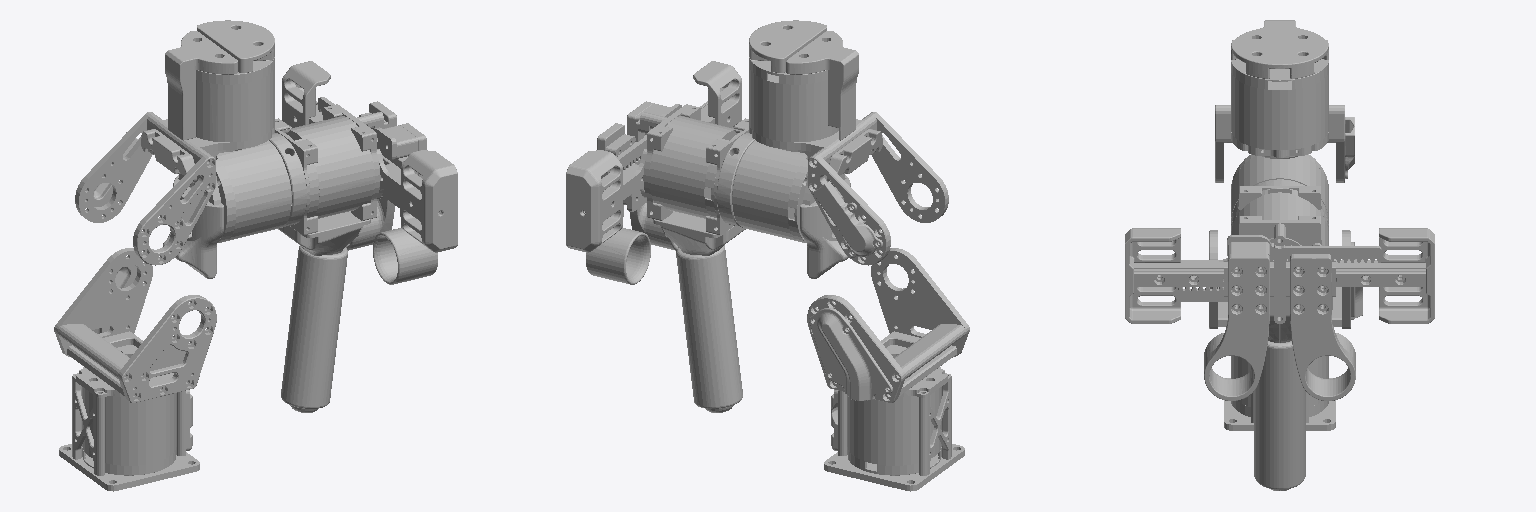
robot.urdf — wxai_leader:
<?xml version="1.0" encoding="utf-8"?>
<!-- This URDF was automatically created by SolidWorks to URDF Exporter! Originally created by [author] ([email redacted]) 
     Commit Version: 1.6.0-4-g7f85cfe  Build Version: 1.6.7995.38578
     For more information, please see http://wiki.ros.org/sw_urdf_exporter -->
<robot name="wxai_leader">
  <link name="base_link">
    <inertial>
      <origin xyz="0.00052268 -0.00005365 0.03202305" rpy="0 0 0"/>
      <mass value="0.45362020"/>
      <inertia ixx="0.00041296" ixy="-1.8e-7" ixz="-1.8e-6" iyy="0.00043677" iyz="3.8e-7" izz="0.00020350"/>
    </inertial>
    <visual>
      <origin xyz="0 0 0" rpy="0 0 0" />
      <geometry>
        <mesh filename="package://trossen_arm_description/meshes/wxai_leader/base_link.stl" />
      </geometry>
      <material name="">
        <color rgba="0.752941176470588 0.752941176470588 0.752941176470588 1" />
      </material>
    </visual>
    <collision>
      <origin xyz="0 0 0" rpy="0 0 0" />
      <geometry>
        <mesh filename="package://trossen_arm_description/meshes/wxai_leader/base_link.stl" />
      </geometry>
    </collision>
  </link>
  <link name="link_1">
    <inertial>
      <origin xyz="0.00021239 0.00381558 0.02072601" rpy="0 0 0"/>
      <mass value="0.15843428"/>
      <inertia ixx="0.00019568" ixy="5.8e-6" ixz="1.531e-5" iyy="0.00008633" iyz="5.45e-6" izz="0.00020268"/>
    </inertial>
    <visual>
      <origin xyz="0 0 0" rpy="0 0 0" />
      <geometry>
        <mesh filename="package://trossen_arm_description/meshes/wxai_leader/link_1.stl" />
      </geometry>
      <material name="">
        <color rgba="0.752941176470588 0.752941176470588 0.752941176470588 1" />
      </material>
    </visual>
    <collision>
      <origin xyz="0 0 0" rpy="0 0 0" />
      <geometry>
        <mesh filename="package://trossen_arm_description/meshes/wxai_leader/link_1.stl" />
      </geometry>
    </collision>
  </link>
  <joint name="joint_0" type="revolute">
    <origin xyz="0 0 0.05725" rpy="0 0 0" />
    <parent link="base_link" />
    <child link="link_1" />
    <axis xyz="0 0 1" />
    <limit lower="-3.14" upper="3.14" effort="0" velocity="0" />
  </joint>
  <link name="link_2">
    <inertial>
      <origin xyz="-0.13013162 -0.00289256 0.00043205" rpy="0 0 0"/>
      <mass value="1.18618542"/>
      <inertia ixx="0.00105929" ixy="4.62e-6" ixz="6.11e-5" iyy="0.01757805" iyz="1.87e-6" izz="0.01814288"/>
    </inertial>
    <visual>
      <origin xyz="0 0 0" rpy="0 0 0" />
      <geometry>
        <mesh filename="package://trossen_arm_description/meshes/wxai_leader/link_2.stl" />
      </geometry>
      <material name="">
        <color rgba="0.752941176470588 0.752941176470588 0.752941176470588 1" />
      </material>
    </visual>
    <collision>
      <origin xyz="0 0 0" rpy="0 0 0" />
      <geometry>
        <mesh filename="package://trossen_arm_description/meshes/wxai_leader/link_2.stl" />
      </geometry>
    </collision>
  </link>
  <joint name="joint_1" type="revolute">
    <origin xyz="0.02 0 0.04625" rpy="0 0 0" />
    <parent link="link_1" />
    <child link="link_2" />
    <axis xyz="0 -1 0" />
    <limit lower="-3.14" upper="3.14" effort="0" velocity="0" />
  </joint>
  <link name="link_3">
    <inertial>
      <origin xyz="0.20081085 -0.00148559 0.05715902" rpy="0 0 0"/>
      <mass value="1.08254926"/>
      <inertia ixx="0.00096248" ixy="-1.11e-4" ixz="5.91e-4" iyy="0.00690323" iyz="-1.21e-5" izz="0.00717548"/>
    </inertial>
    <visual>
      <origin xyz="0 0 0" rpy="0 0 0" />
      <geometry>
        <mesh filename="package://trossen_arm_description/meshes/wxai_leader/link_3.stl" />
      </geometry>
      <material name="">
        <color rgba="0.752941176470588 0.752941176470588 0.752941176470588 1" />
      </material>
    </visual>
    <collision>
      <origin xyz="0 0 0" rpy="0 0 0" />
      <geometry>
        <mesh filename="package://trossen_arm_description/meshes/wxai_leader/link_3.stl" />
      </geometry>
    </collision>
  </link>
  <joint name="joint_2" type="revolute">
    <origin xyz="-0.264 0 0" rpy="0 0 0" />
    <parent link="link_2" />
    <child link="link_3" />
    <axis xyz="0 -1 0" />
    <limit lower="-3.14" upper="3.14" effort="0" velocity="0" />
  </joint>
  <link name="link_4">
    <inertial>
      <origin xyz="0.05715387 0.00034278 0.05714934" rpy="0 0 0"/>
      <mass value="0.43735051"/>
      <inertia ixx="0.00051288" ixy="-7.84e-6" ixz="1.73e-4" iyy="0.00062611" iyz="-7.96e-6" izz="0.00040480"/>
    </inertial>
    <visual>
      <origin xyz="0 0 0" rpy="0 0 0" />
      <geometry>
        <mesh filename="package://trossen_arm_description/meshes/wxai_leader/link_4.stl" />
      </geometry>
      <material name="">
        <color rgba="0.752941176470588 0.752941176470588 0.752941176470588 1" />
      </material>
    </visual>
    <collision>
      <origin xyz="0 0 0" rpy="0 0 0" />
      <geometry>
        <mesh filename="package://trossen_arm_description/meshes/wxai_leader/link_4.stl" />
      </geometry>
    </collision>
  </link>
  <joint name="joint_3" type="revolute">
    <origin xyz="0.245 0 0.06" rpy="0 0 0" />
    <parent link="link_3" />
    <child link="link_4" />
    <axis xyz="0 -1 0" />
    <limit lower="-3.14" upper="3.14" effort="0" velocity="0" />
  </joint>
  <link name="link_5">
    <inertial>
      <origin xyz="0.00386239 -0.00001131 -0.04318054" rpy="0 0 0"/>
      <mass value="0.36982410"/>
      <inertia ixx="0.00018840" ixy="4.5e-7" ixz="2.45e-6" iyy="0.00032339" iyz="-3e-8" izz="0.00026992"/>
    </inertial>
    <visual>
      <origin xyz="0 0 0" rpy="0 0 0" />
      <geometry>
        <mesh filename="package://trossen_arm_description/meshes/wxai_leader/link_5.stl" />
      </geometry>
      <material name="">
        <color rgba="0.752941176470588 0.752941176470588 0.752941176470588 1" />
      </material>
    </visual>
    <collision>
      <origin xyz="0 0 0" rpy="0 0 0" />
      <geometry>
        <mesh filename="package://trossen_arm_description/meshes/wxai_leader/link_5.stl" />
      </geometry>
    </collision>
  </link>
  <joint name="joint_4" type="revolute">
    <origin xyz="0.06775 0 0.0455" rpy="0 0 0" />
    <parent link="link_4" />
    <child link="link_5" />
    <axis xyz="0 0 -1" />
    <limit lower="-3.14" upper="3.14" effort="0" velocity="0" />
  </joint>
  <link name="link_6">
    <inertial>
      <origin xyz="0.04260435 -0.00000564 -0.00961530" rpy="0 0 0"/>
      <mass value="0.58782068"/>
      <inertia ixx="0.00106679" ixy="4.9e-7" ixz="6.518e-5" iyy="0.00096664" iyz="-1.5e-7" izz="0.00084059"/>
    </inertial>
    <visual>
      <origin xyz="0 0 0" rpy="0 0 0" />
      <geometry>
        <mesh filename="package://trossen_arm_description/meshes/wxai_leader/link_6.stl" />
      </geometry>
      <material name="">
        <color rgba="0.752941176470588 0.752941176470588 0.752941176470588 1" />
      </material>
    </visual>
    <collision>
      <origin xyz="0 0 0" rpy="0 0 0" />
      <geometry>
        <mesh filename="package://trossen_arm_description/meshes/wxai_leader/link_6.stl" />
      </geometry>
    </collision>
  </link>
  <joint name="joint_5" type="revolute">
    <origin xyz="0.02895 0 -0.0455" rpy="0 0 0" />
    <parent link="link_5" />
    <child link="link_6" />
    <axis xyz="1 0 0" />
    <limit lower="-3.14" upper="3.14" effort="0" velocity="0" />
  </joint>
  <link name="gripper_left">
    <inertial>
      <origin xyz="0.00203592 -0.00158698 -0.01124986" rpy="0 0 0"/>
      <mass value="0.07230515"/>
      <inertia ixx="0.00004429" ixy="2.1e-6" ixz="8.6e-7" iyy="0.00003181" iyz="-3.39e-6" izz="0.00001895"/>
    </inertial>
    <visual>
      <origin xyz="0 0 0" rpy="0 0 0" />
      <geometry>
        <mesh filename="package://trossen_arm_description/meshes/wxai_leader/gripper_left.stl" />
      </geometry>
      <material name="">
        <color rgba="0.752941176470588 0.752941176470588 0.752941176470588 1" />
      </material>
    </visual>
    <collision>
      <origin xyz="0 0 0" rpy="0 0 0" />
      <geometry>
        <mesh filename="package://trossen_arm_description/meshes/wxai_leader/gripper_left.stl" />
      </geometry>
    </collision>
  </link>
  <joint name="joint_gl" type="prismatic">
    <origin xyz="0.078 0.01795 0" rpy="0 0 0" />
    <parent link="link_6" />
    <child link="gripper_left" />
    <axis xyz="0 1 0" />
    <limit lower="-3.14" upper="3.14" effort="0" velocity="0" />
  </joint>
  <link name="gripper_right">
    <inertial>
      <origin xyz="0.00203592 0.00158689 -0.00503780" rpy="0 0 0"/>
      <mass value="0.07230515"/>
      <inertia ixx="0.00005161" ixy="-2.1e-6" ixz="-2.28e-6" iyy="0.00003913" iyz="7.97e-6" izz="0.00001895"/>
    </inertial>
    <visual>
      <origin xyz="0 0 0" rpy="0 0 0" />
      <geometry>
        <mesh filename="package://trossen_arm_description/meshes/wxai_leader/gripper_right.stl" />
      </geometry>
      <material name="">
        <color rgba="0.752941176470588 0.752941176470588 0.752941176470588 1" />
      </material>
    </visual>
    <collision>
      <origin xyz="0 0 0" rpy="0 0 0" />
      <geometry>
        <mesh filename="package://trossen_arm_description/meshes/wxai_leader/gripper_right.stl" />
      </geometry>
    </collision>
  </link>
  <joint name="joint_gr" type="prismatic">
    <origin xyz="0.078 -0.01795 0" rpy="0 0 0" />
    <parent link="link_6" />
    <child link="gripper_right" />
    <axis xyz="0 -1 0" />
    <limit lower="-3.14" upper="3.14" effort="0" velocity="0" />
  </joint>
</robot>

--- Render facts (derived) ---
The picture shows the robot from 3 angles, left to right: view 1: azimuth 30°, elevation 25°; view 2: azimuth 150°, elevation 25°; view 3: azimuth 270°, elevation 25°; orthographic projection.
Robot: wxai_leader — 9 links, 8 joints (6 revolute, 2 prismatic); root link base_link; default pose: every joint at zero.
Links seen in each view (by area): view 1: link_6, link_4, link_1, base_link, link_5, gripper_right, gripper_left; view 2: link_6, link_4, link_1, base_link, link_5, gripper_left, gripper_right; view 3: link_6, link_4, gripper_right, gripper_left, link_5, base_link, link_1.
Link boxes in pixels (x1=…): link_6: x1=269, y1=61, x2=457, y2=412; link_4: x1=75, y1=20, x2=274, y2=265; link_1: x1=54, y1=248, x2=216, y2=402; base_link: x1=59, y1=367, x2=199, y2=491; link_5: x1=163, y1=140, x2=291, y2=278; gripper_right: x1=318, y1=97, x2=437, y2=284; gripper_left: x1=346, y1=101, x2=400, y2=250; link_6: x1=566, y1=61, x2=754, y2=412; link_4: x1=749, y1=20, x2=948, y2=265; link_1: x1=807, y1=248, x2=969, y2=402; base_link: x1=824, y1=367, x2=964, y2=491; link_5: x1=732, y1=140, x2=850, y2=278; gripper_left: x1=586, y1=123, x2=650, y2=284; gripper_right: x1=604, y1=101, x2=681, y2=250; link_6: x1=1125, y1=179, x2=1434, y2=490; link_4: x1=1215, y1=20, x2=1354, y2=182; gripper_right: x1=1204, y1=235, x2=1381, y2=400; gripper_left: x1=1178, y1=254, x2=1355, y2=400; link_5: x1=1231, y1=154, x2=1328, y2=217; base_link: x1=1224, y1=356, x2=1335, y2=430; link_1: x1=1209, y1=230, x2=1362, y2=328.
Bounding box of the posed robot: 0.2227 × 0.1806 × 0.265 m (x, y, z).
Meshes: 9 distinct files referenced, 7 mesh visuals loaded (7 binary STL); not drawn: 2 (reference not matched to a file when rendering).
